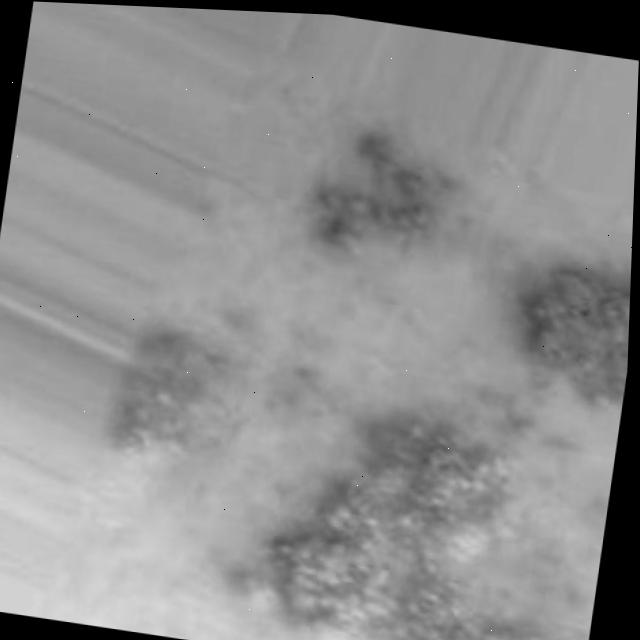Shingles: (215, 391, 600, 640), (302, 120, 473, 274), (98, 318, 259, 475), (511, 252, 632, 415)
